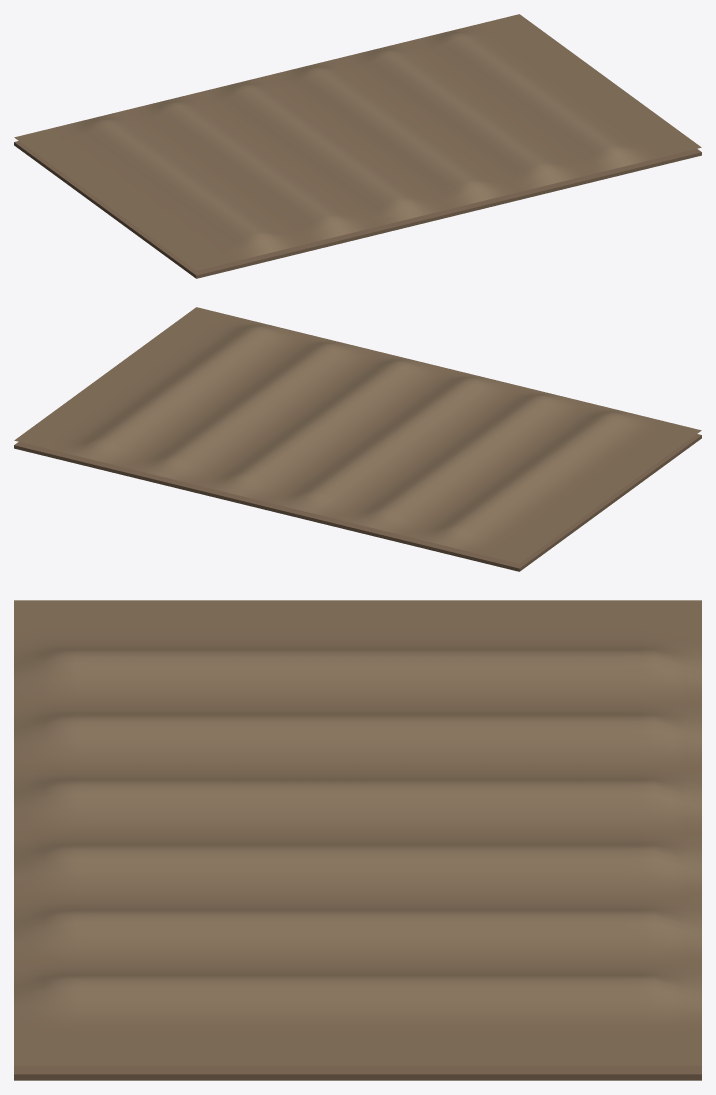
The model's file is field_stage1.glb.
3 renders of one model, top to bottom at view 1: azimuth 30°, elevation 25°; view 2: azimuth 150°, elevation 25°; view 3: azimuth 270°, elevation 25°, orthographic. The views are drawn at different scales.
Bounding box in the file's own units: 8 × 0.235 × 5.
